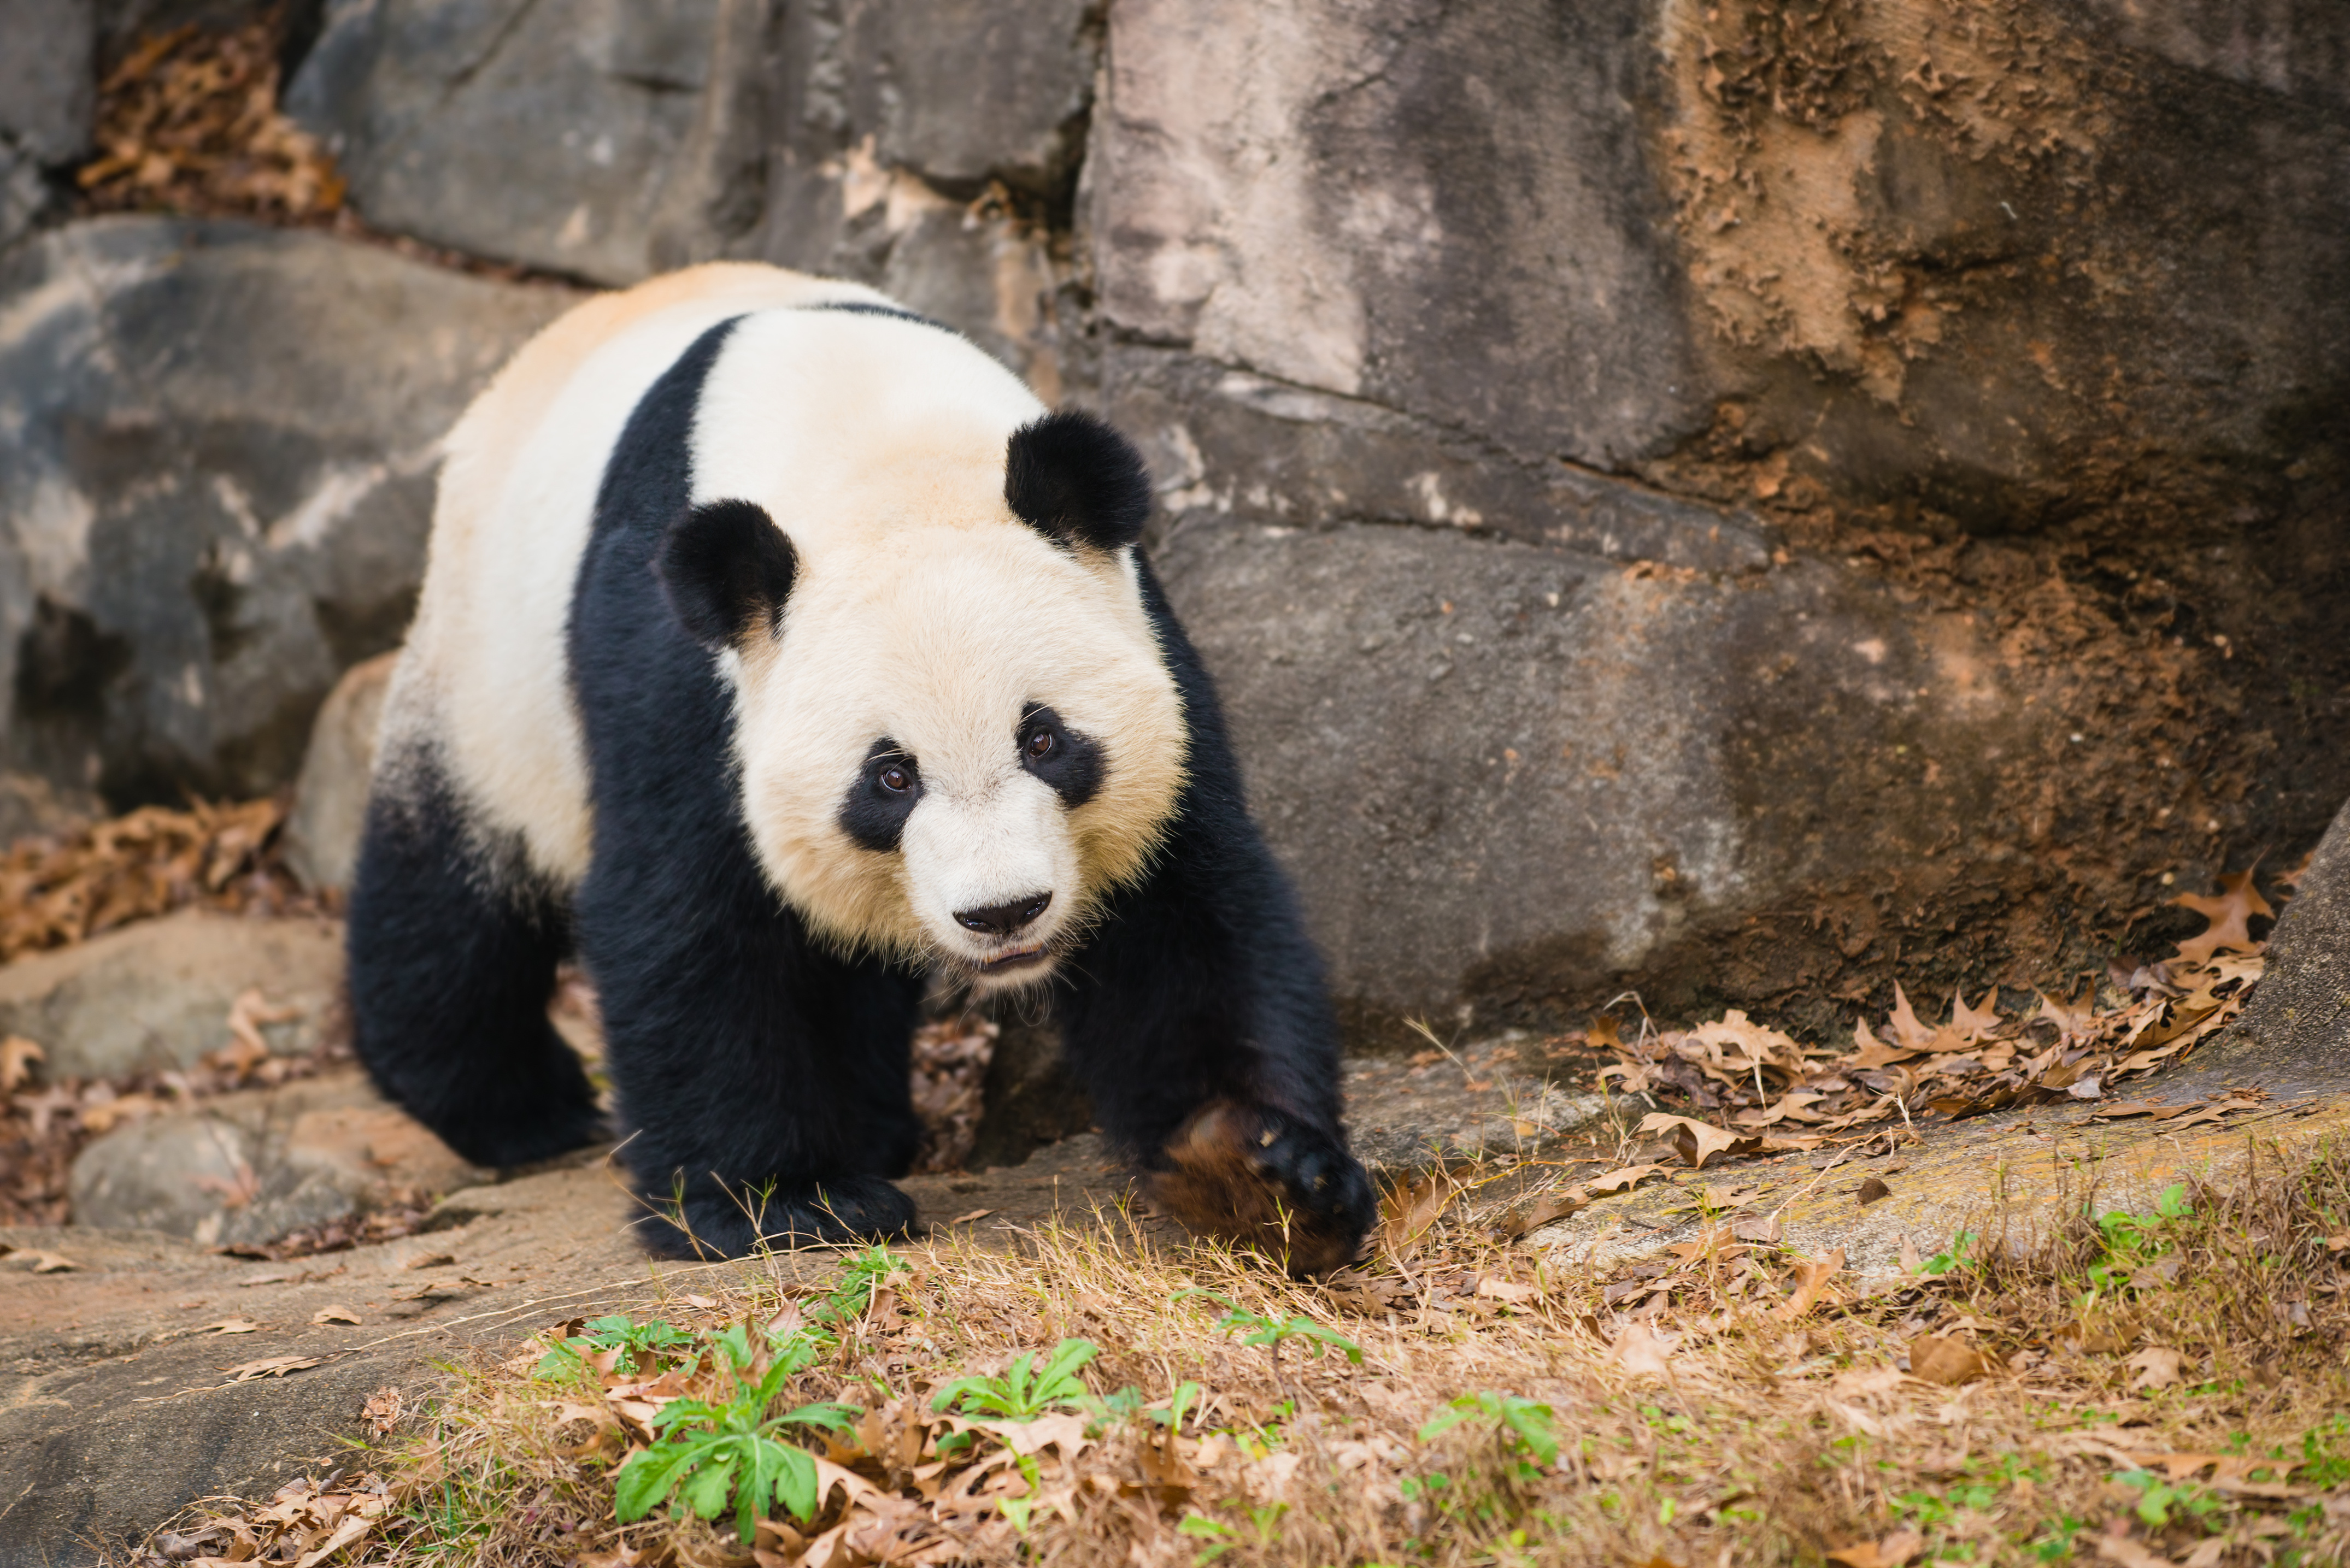panda: (290, 259, 1444, 1363)
